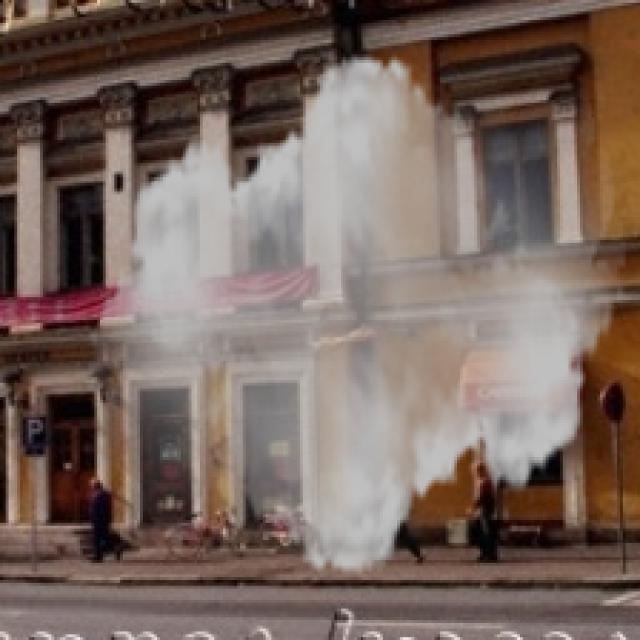smoke: (89, 32, 626, 597)
